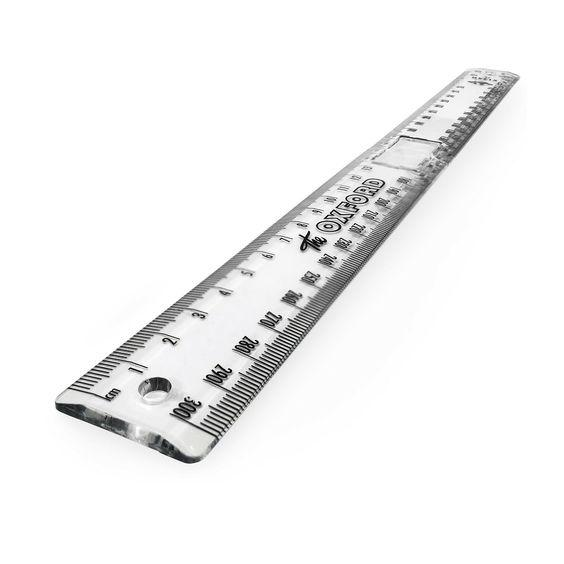PS: (51, 66, 519, 470)
